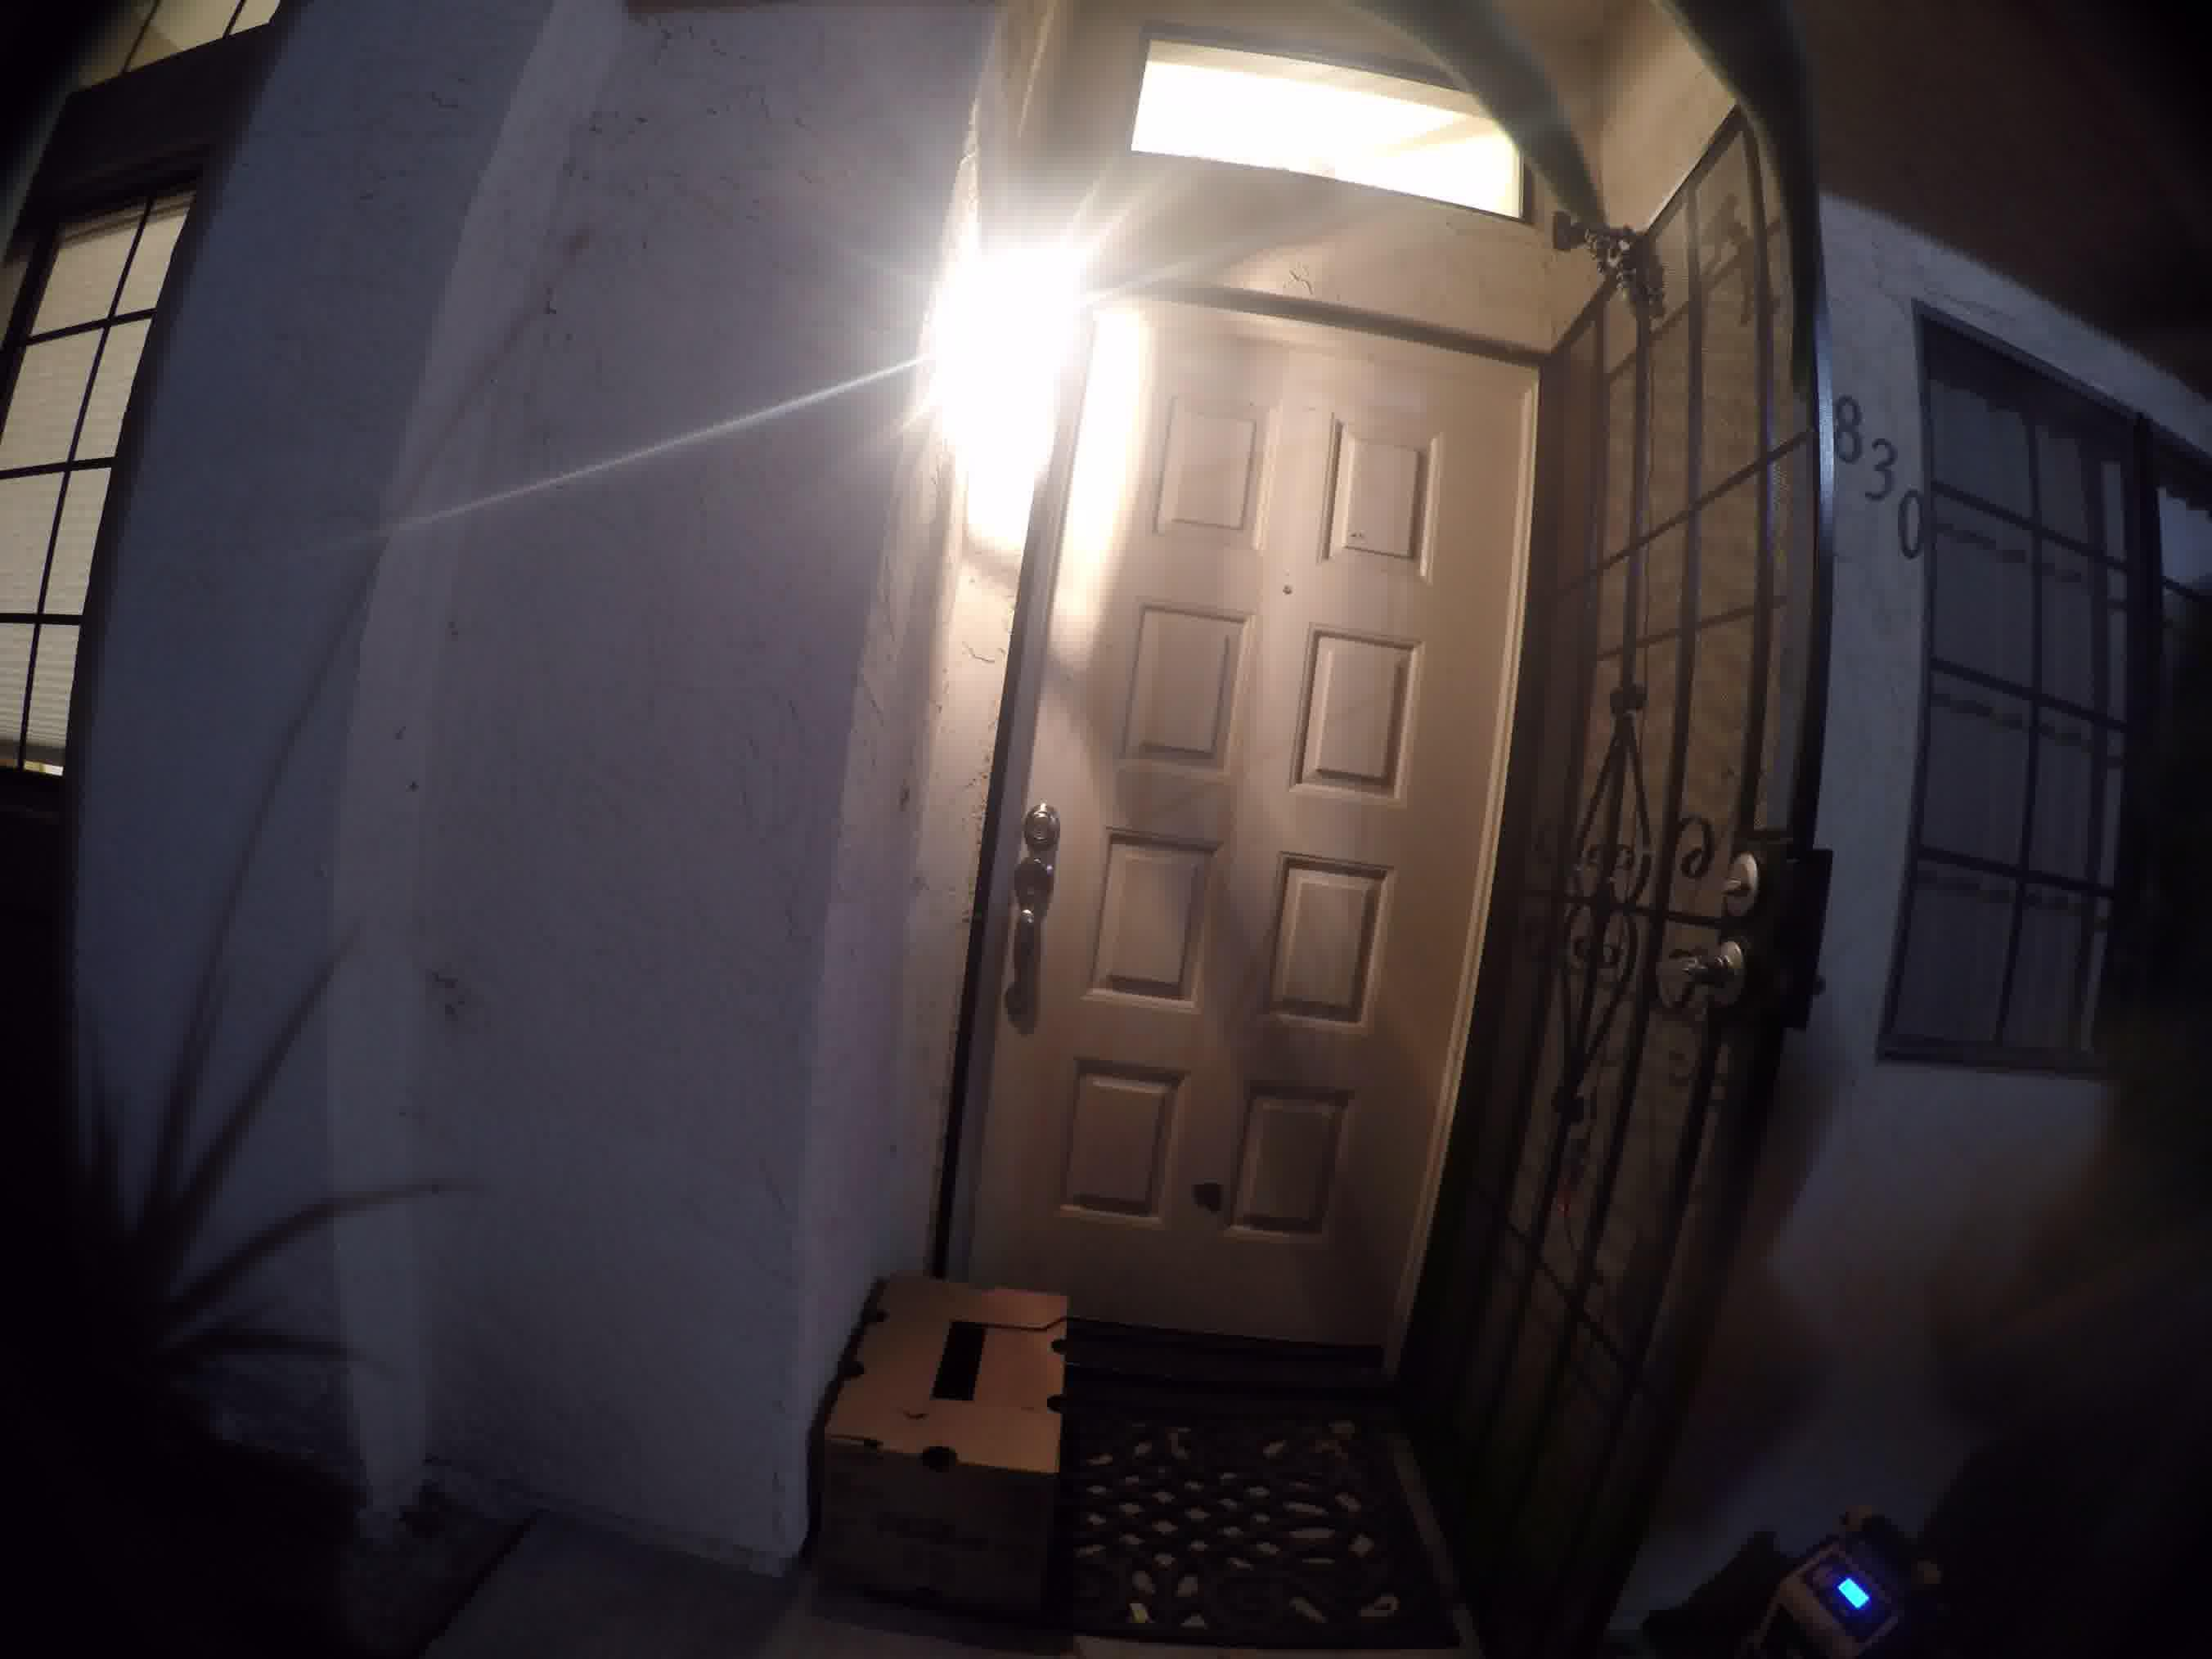box: (852, 1256, 1096, 1579)
